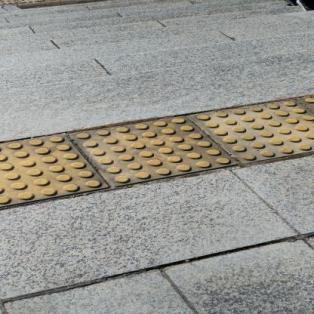Podoctatil: (0, 89, 313, 215)
